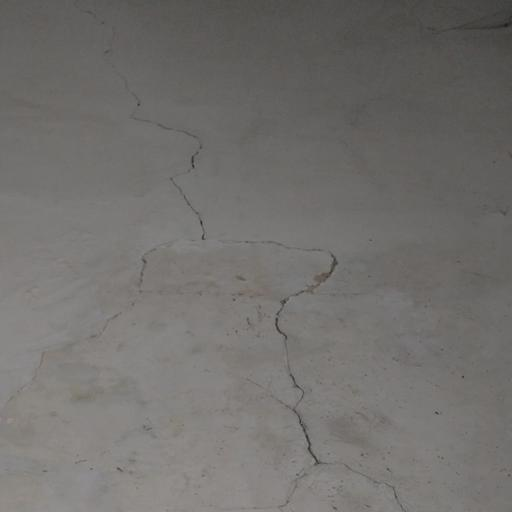major_crack: (92, 7, 414, 512)
